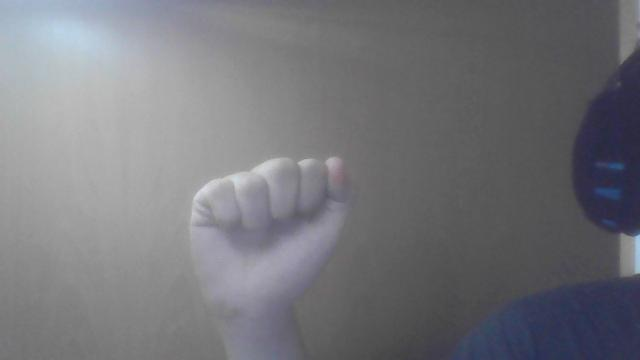forward: (188, 154, 354, 358)
